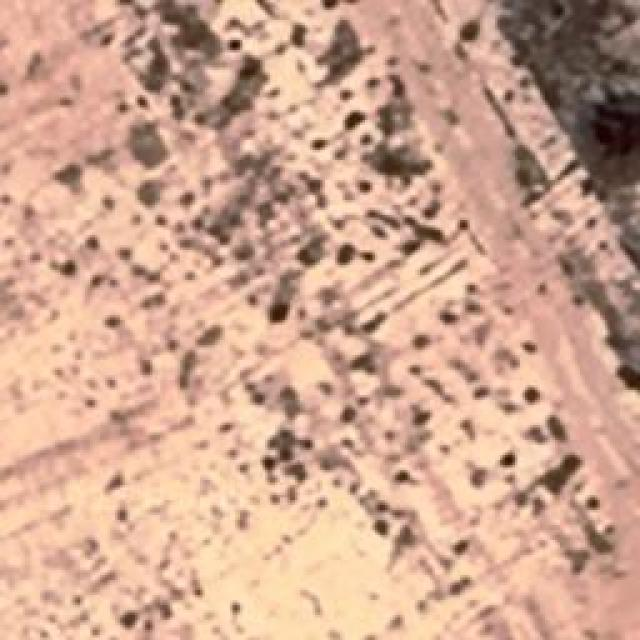PalmTree: (592, 88, 640, 162)
